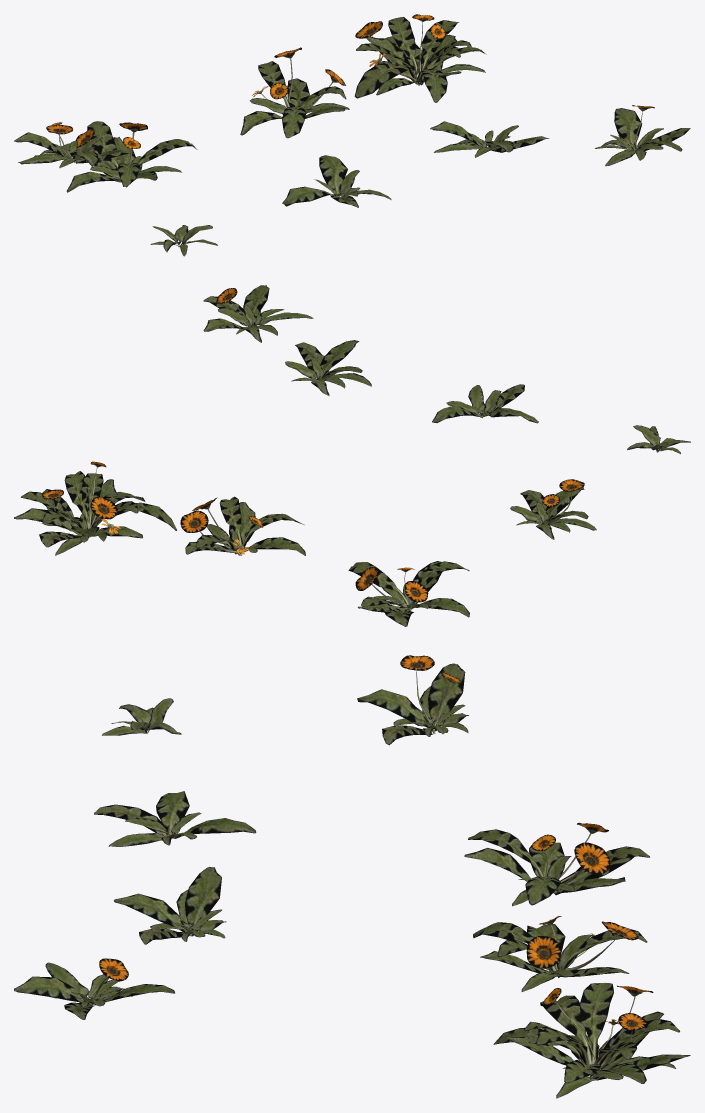
The model's file is fl_orange.glb.
The picture shows the model from 3 angles, top to bottom: view 1: azimuth 30°, elevation 25°; view 2: azimuth 150°, elevation 25°; view 3: azimuth 270°, elevation 25°; orthographic projection. The views are drawn at different scales.
Visible parts, largest first — view 1: flower_gazania_h_LOD0, flower_gazania_g_LOD0, flower_gazania_f_LOD0, flower_gazania_d_LOD0, flower_gazania_b_LOD0, flower_gazania_e_LOD0, flower_gazania_c_LOD0, flower_gazania_a_LOD0; view 2: flower_gazania_h_LOD0, flower_gazania_g_LOD0, flower_gazania_f_LOD0, flower_gazania_d_LOD0, flower_gazania_e_LOD0, flower_gazania_c_LOD0, flower_gazania_b_LOD0, flower_gazania_a_LOD0; view 3: flower_gazania_h_LOD0, flower_gazania_f_LOD0, flower_gazania_g_LOD0, flower_gazania_e_LOD0, flower_gazania_c_LOD0, flower_gazania_d_LOD0, flower_gazania_b_LOD0, flower_gazania_a_LOD0.
Boxes of the visible parts, x1,y1,x2,y2 form: flower_gazania_h_LOD0: [354, 14, 486, 102]; flower_gazania_g_LOD0: [240, 47, 349, 138]; flower_gazania_f_LOD0: [62, 121, 197, 192]; flower_gazania_d_LOD0: [595, 105, 690, 166]; flower_gazania_b_LOD0: [282, 155, 391, 207]; flower_gazania_e_LOD0: [14, 122, 133, 167]; flower_gazania_c_LOD0: [430, 121, 549, 157]; flower_gazania_a_LOD0: [150, 225, 217, 256]; flower_gazania_h_LOD0: [14, 461, 176, 555]; flower_gazania_g_LOD0: [180, 496, 305, 555]; flower_gazania_f_LOD0: [348, 561, 469, 626]; flower_gazania_d_LOD0: [203, 285, 313, 342]; flower_gazania_e_LOD0: [510, 479, 596, 539]; flower_gazania_c_LOD0: [285, 340, 371, 395]; flower_gazania_b_LOD0: [432, 384, 538, 423]; flower_gazania_a_LOD0: [627, 425, 690, 454]; flower_gazania_h_LOD0: [493, 982, 690, 1098]; flower_gazania_f_LOD0: [464, 822, 649, 906]; flower_gazania_g_LOD0: [473, 916, 647, 991]; flower_gazania_e_LOD0: [357, 655, 468, 745]; flower_gazania_c_LOD0: [114, 867, 226, 944]; flower_gazania_d_LOD0: [14, 958, 174, 1019]; flower_gazania_b_LOD0: [94, 791, 256, 846]; flower_gazania_a_LOD0: [102, 698, 181, 735].
Size of the model in its own units: 1.33 by 0.2851 by 1.12.
Materials: 1 (1 with a texture image).
